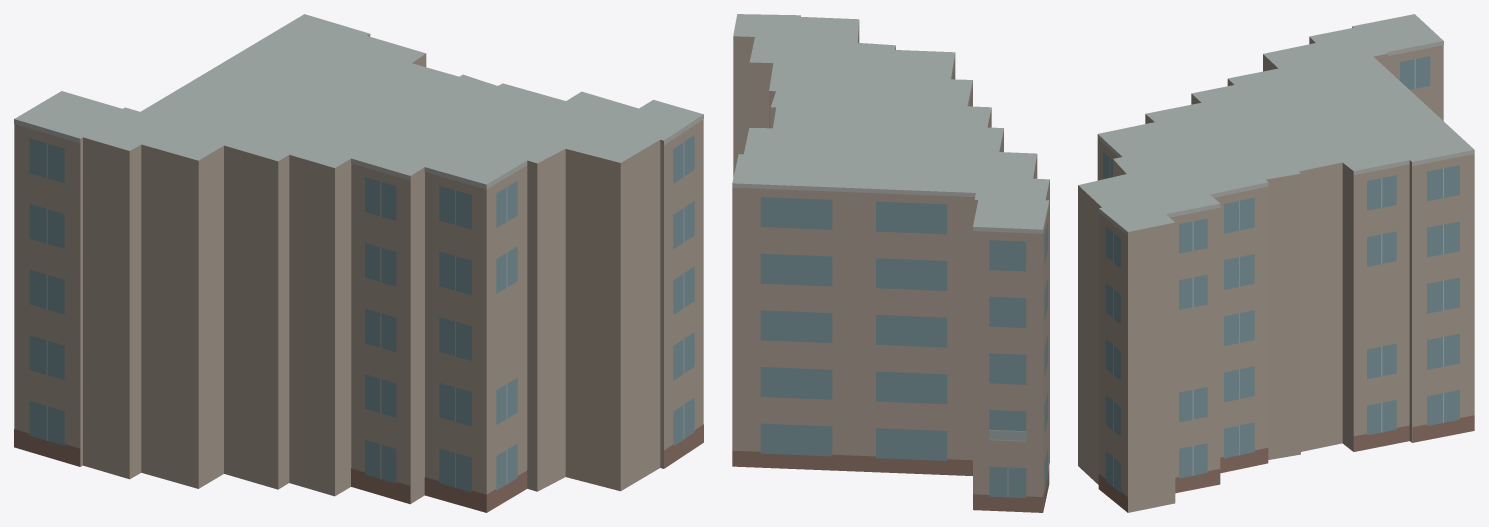
Rendered from survey-upis-32498640.glb.
3 renders of one model, left to right at view 1: azimuth 30°, elevation 25°; view 2: azimuth 150°, elevation 25°; view 3: azimuth 270°, elevation 25°, orthographic. The views are drawn at different scales.
Parts seen in each view (by area): view 1: survey-upis-32498640.tmp; view 2: survey-upis-32498640.tmp; view 3: survey-upis-32498640.tmp.
Part boxes in pixels (x1,y1,x2,y2): survey-upis-32498640.tmp: [14, 14, 703, 512]; survey-upis-32498640.tmp: [732, 14, 1049, 512]; survey-upis-32498640.tmp: [1078, 14, 1474, 512].
Bounding box in the file's own units: 27.55 × 16.55 × 21.18.
